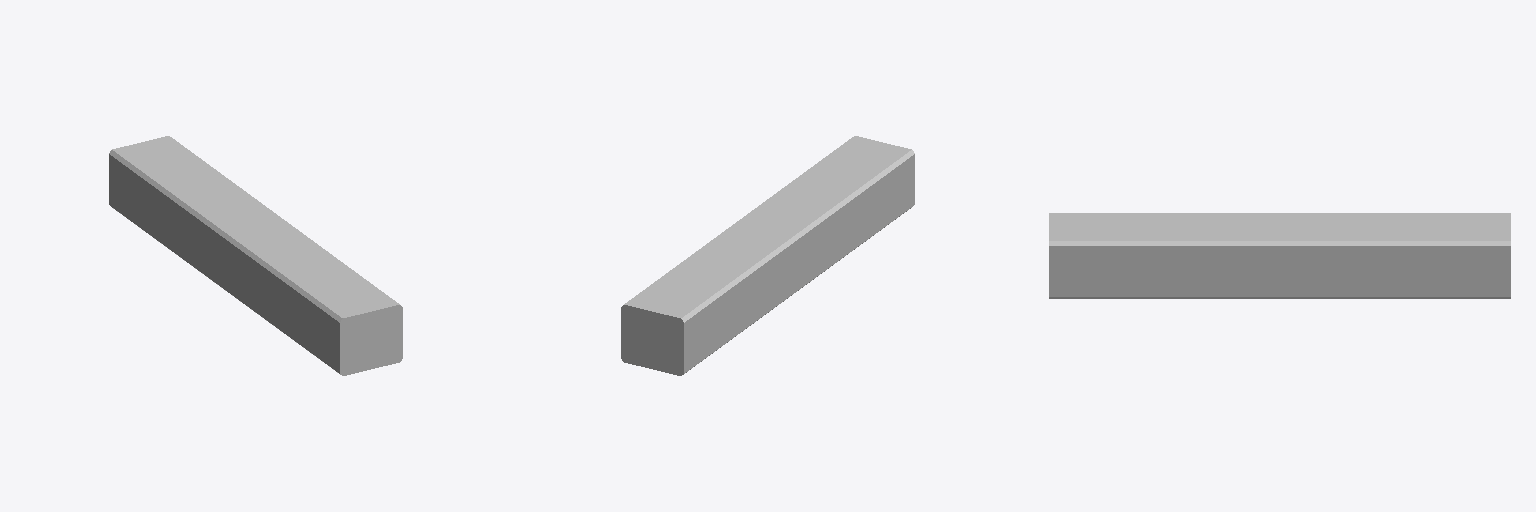
Rendered from factory_rectangular_peg_8mm_loose_subdiv_3x.obj.
The picture shows the model from 3 angles: view 1: azimuth 30°, elevation 25°; view 2: azimuth 150°, elevation 25°; view 3: azimuth 270°, elevation 25°; orthographic projection.
Parts seen in each view (by area): view 1: mesh2, mesh4, mesh5, mesh3; view 2: mesh2, mesh4, mesh6, mesh3; view 3: mesh0, mesh2, mesh1, mesh9.
Part boxes in pixels (bbox=[...]): mesh2: bbox=[112, 136, 399, 317]; mesh4: bbox=[109, 154, 339, 373]; mesh5: bbox=[340, 305, 402, 375]; mesh3: bbox=[109, 150, 342, 322]; mesh2: bbox=[624, 136, 911, 317]; mesh4: bbox=[684, 154, 914, 373]; mesh6: bbox=[621, 305, 683, 375]; mesh3: bbox=[681, 150, 914, 322]; mesh0: bbox=[1049, 246, 1510, 296]; mesh2: bbox=[1049, 213, 1510, 240]; mesh1: bbox=[1049, 241, 1510, 245]; mesh9: bbox=[1049, 297, 1510, 298].
Bounding box in the file's own units: 0.008 × 0.0069 × 0.05.